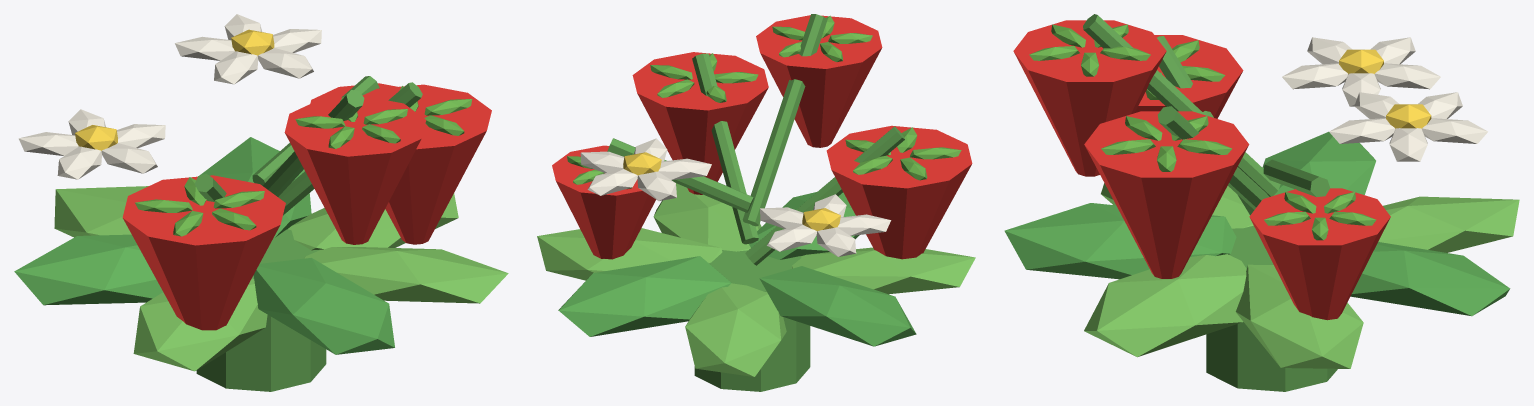
File: Strawberry.glb
3 views of the same model, side by side, from view 1: azimuth 30°, elevation 25°; view 2: azimuth 150°, elevation 25°; view 3: azimuth 270°, elevation 25° (orthographic). The views are drawn at different scales.
Visible parts, largest first — view 1: FTF_Plant_Strawberry_Mature_Mesh; view 2: FTF_Plant_Strawberry_Mature_Mesh; view 3: FTF_Plant_Strawberry_Mature_Mesh.
Part boxes in pixels (x1,y1,x2,y2): FTF_Plant_Strawberry_Mature_Mesh: (14, 14, 508, 391); FTF_Plant_Strawberry_Mature_Mesh: (537, 14, 975, 391); FTF_Plant_Strawberry_Mature_Mesh: (1004, 14, 1519, 391).
Size of the model in its own units: 0.8879 by 0.659 by 0.8735.
